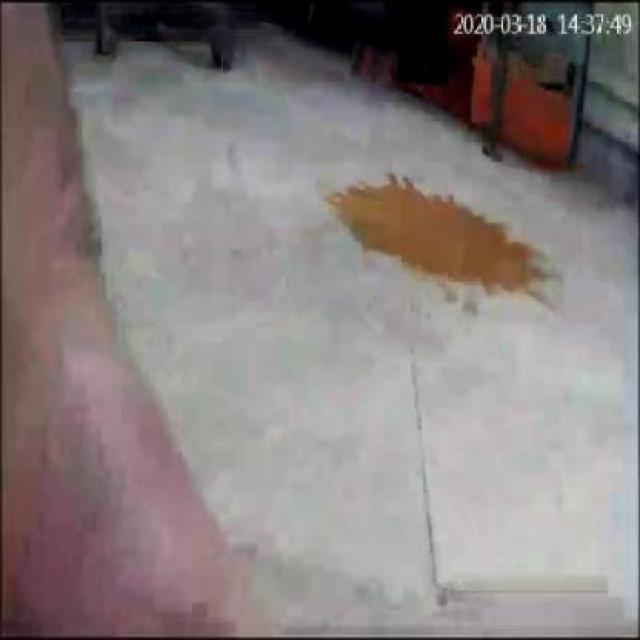spillage: (325, 175, 563, 310)
